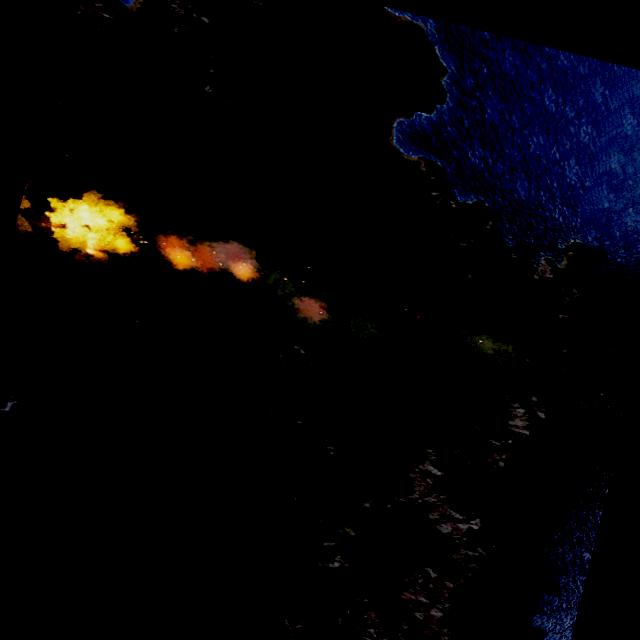fire: (35, 187, 139, 264)
smoke: (129, 212, 341, 327), (450, 323, 525, 367), (0, 377, 19, 512), (288, 292, 330, 324)
